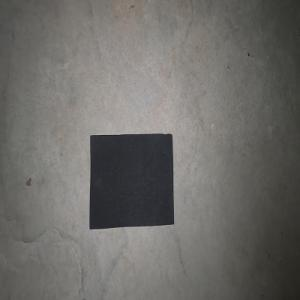PaintChip: (89, 133, 174, 229)
